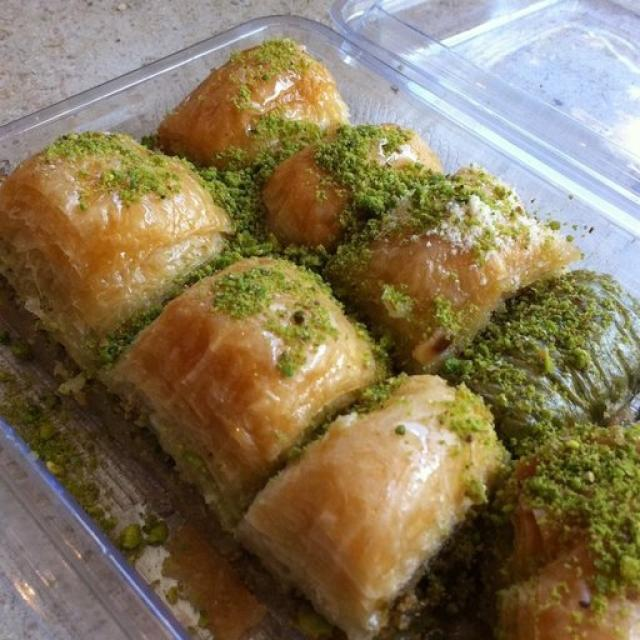Baklawa: (105, 223, 388, 520)
